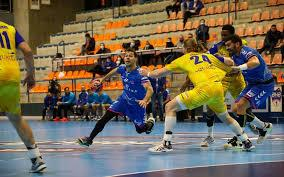ballon_handball: (90, 80, 104, 92)
